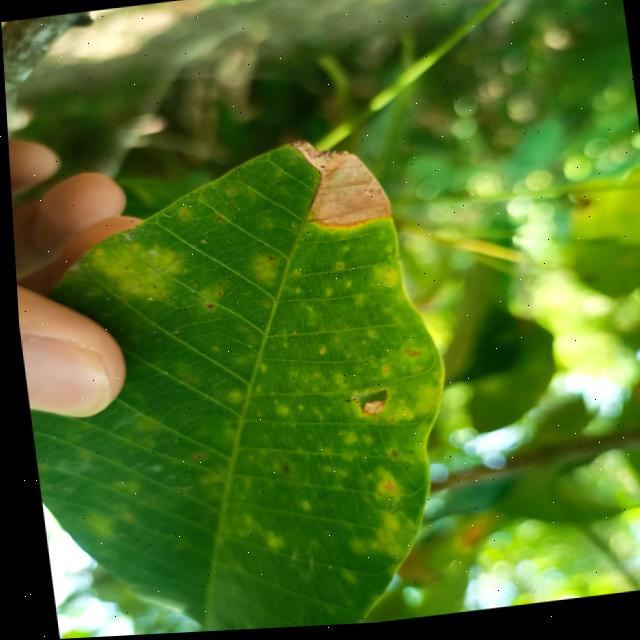Leaf-Blight: (288, 134, 390, 236), (356, 401, 382, 419)
